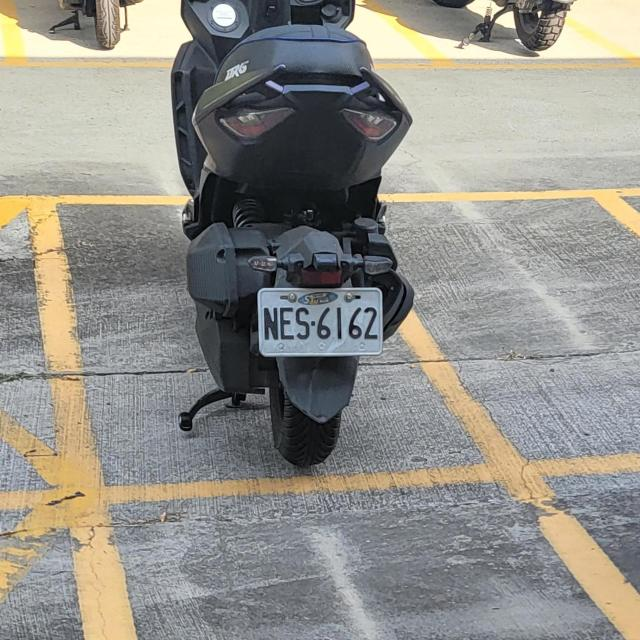W: (255, 286, 384, 358)
